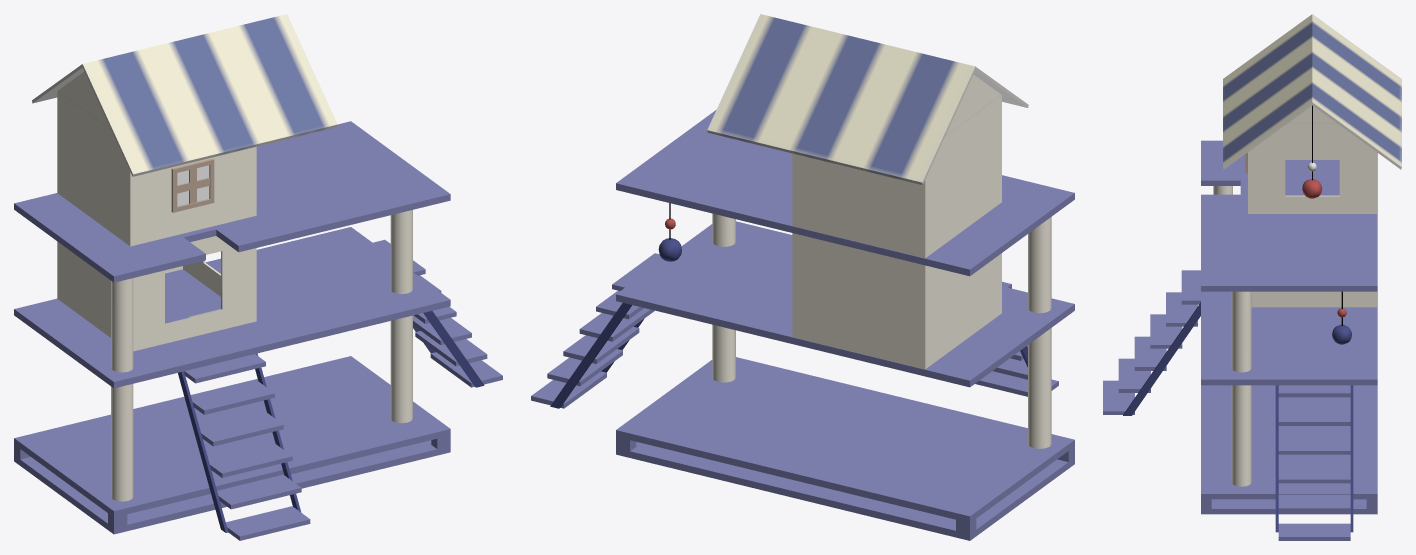
Rendered from cat_tower.fbx.
3 renders of one model, left to right at view 1: azimuth 30°, elevation 25°; view 2: azimuth 150°, elevation 25°; view 3: azimuth 270°, elevation 25°, orthographic. The views are drawn at different scales.
Visible parts, largest first — view 1: Cube.036; view 2: Cube.036; view 3: Cube.036.
Boxes of the visible parts, box(x1,y1,x2,y2) form: Cube.036: box(14, 14, 502, 540); Cube.036: box(531, 14, 1074, 540); Cube.036: box(1103, 14, 1401, 540).
Bounding box in the file's own units: 131 × 121 × 88.7.
1 material, 1 textured.
